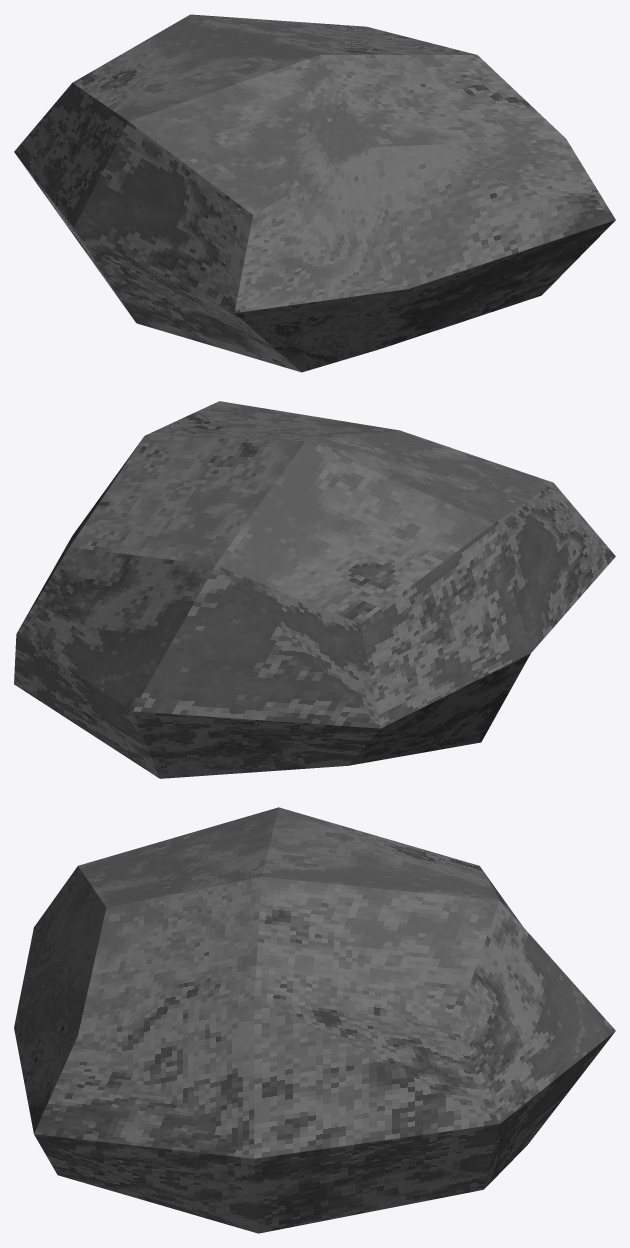
File: Stone_1.glb
3 renders of one model, top to bottom at view 1: azimuth 30°, elevation 25°; view 2: azimuth 150°, elevation 25°; view 3: azimuth 270°, elevation 25°, orthographic. The views are drawn at different scales.
Visible parts, largest first — view 1: Cube; view 2: Cube; view 3: Cube.
Part boxes in pixels (x1,y1,x2,y2): Cube: (14,14,615,372); Cube: (14,401,615,778); Cube: (14,807,615,1233).
Size of the model in its own units: 1.44 by 0.777 by 1.5.
Materials: 1 (1 with a texture image).
